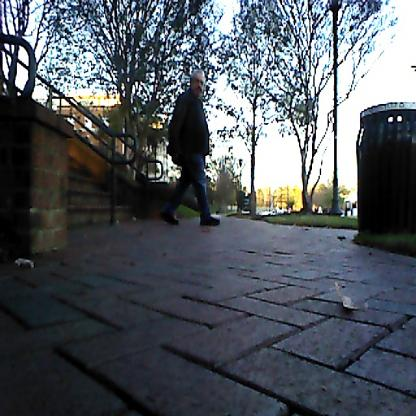Edge: (1, 197, 181, 269), (266, 212, 416, 281)
Sidewalk: (0, 221, 416, 414)
